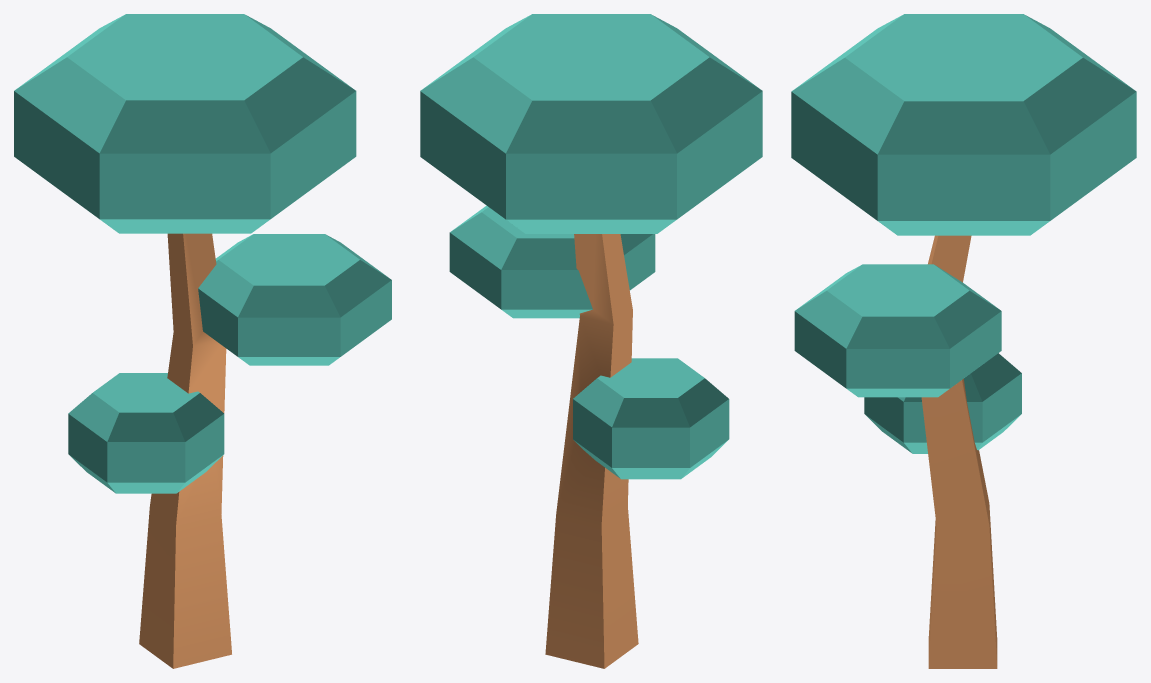
File: tree_plateau.obj
The picture shows the model from 3 angles, left to right: view 1: azimuth 30°, elevation 25°; view 2: azimuth 150°, elevation 25°; view 3: azimuth 270°, elevation 25°; orthographic projection.
Visible parts, largest first — view 1: tree_plateau; view 2: tree_plateau; view 3: tree_plateau.
Boxes of the visible parts, box(x1,y1,x2,y2) form: tree_plateau: box(14, 14, 391, 668); tree_plateau: box(420, 14, 762, 668); tree_plateau: box(791, 14, 1136, 668).
Size of the model in its own units: 6.12 by 12.49 by 6.55.
